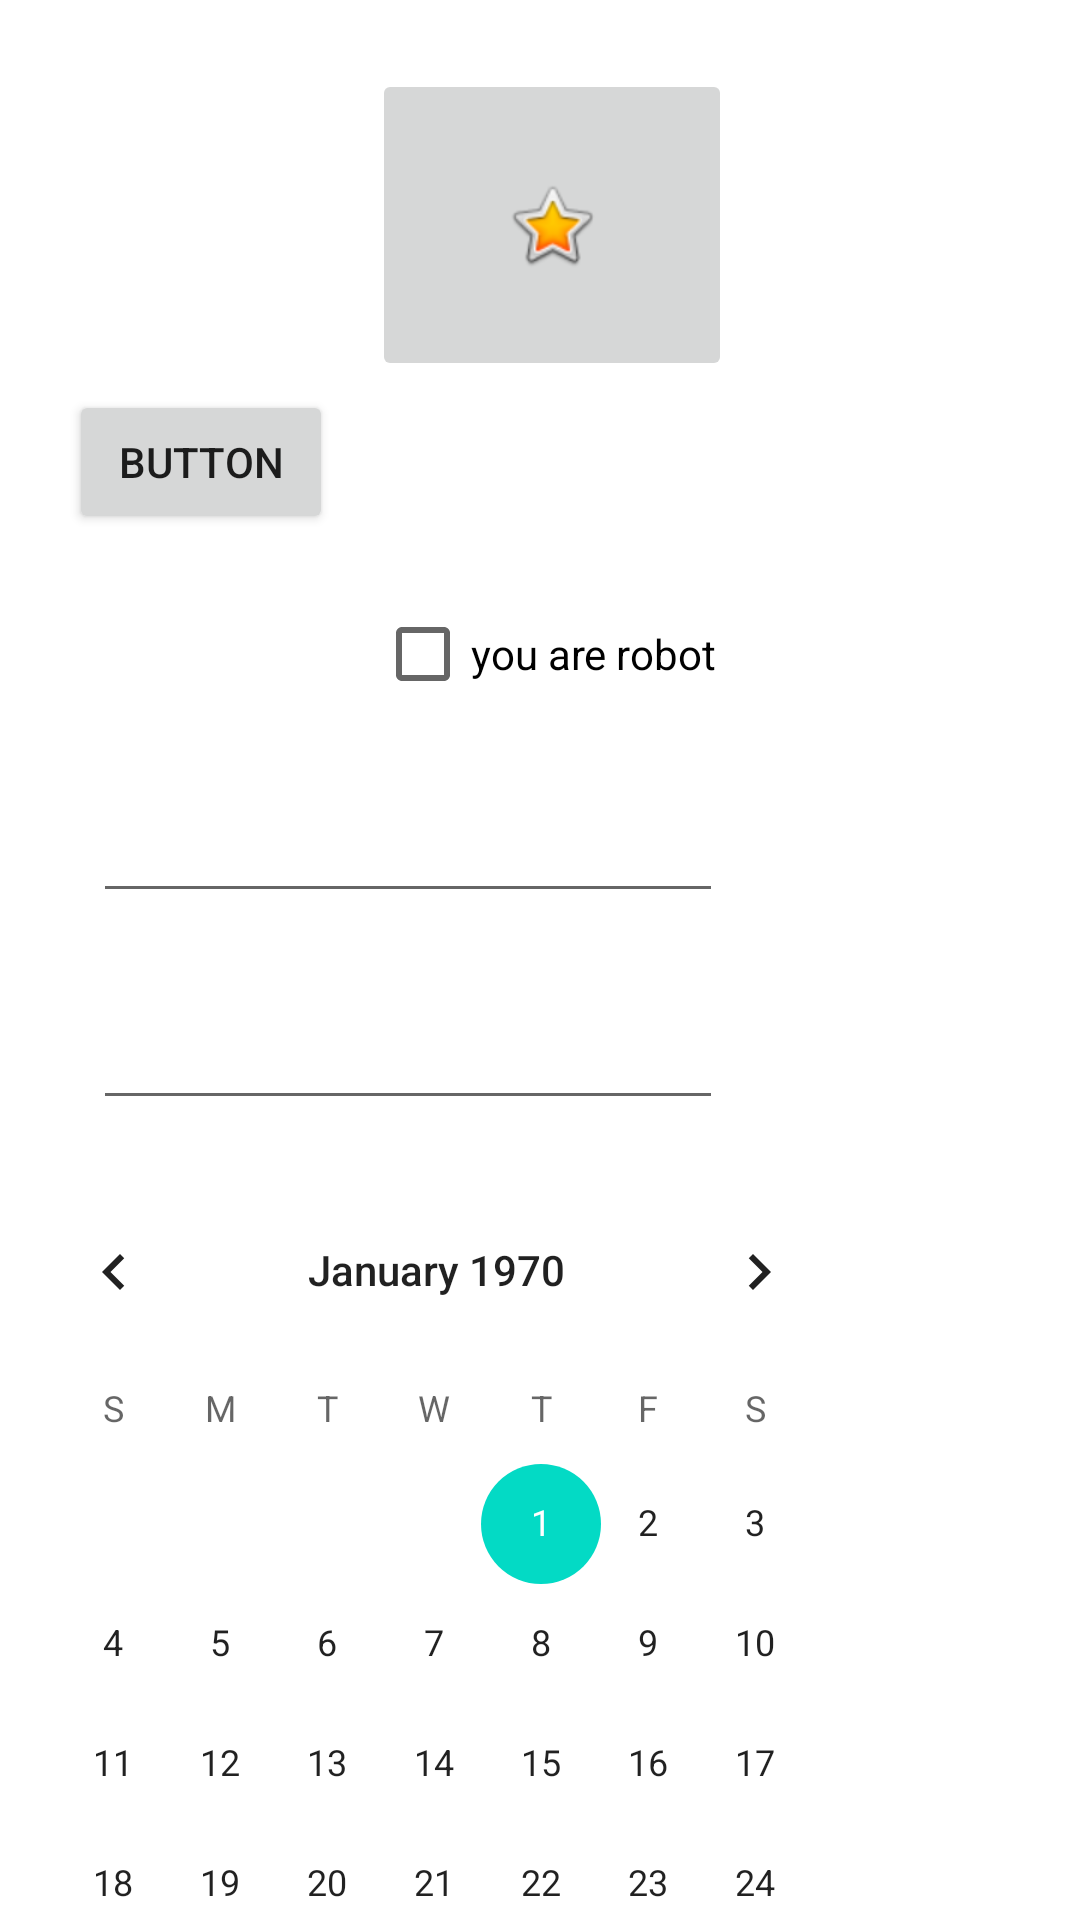

Where icons sit on this 1080 × 1920 app screen, as (x1, y1, x2, y2):
star on: (384, 87, 720, 363)
